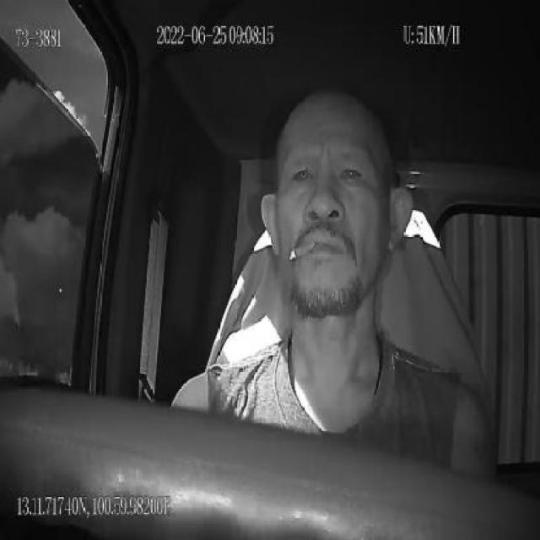smoking: (288, 237, 316, 263)
